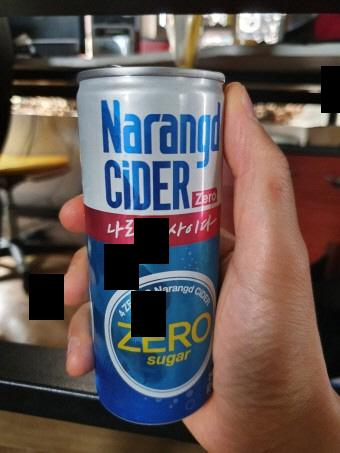narangdcider: (74, 62, 230, 429)
